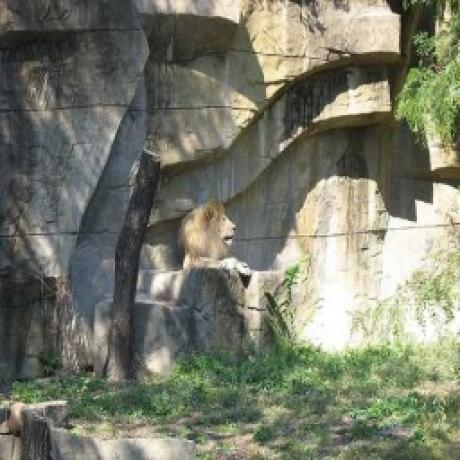Lion: (176, 198, 254, 282)
